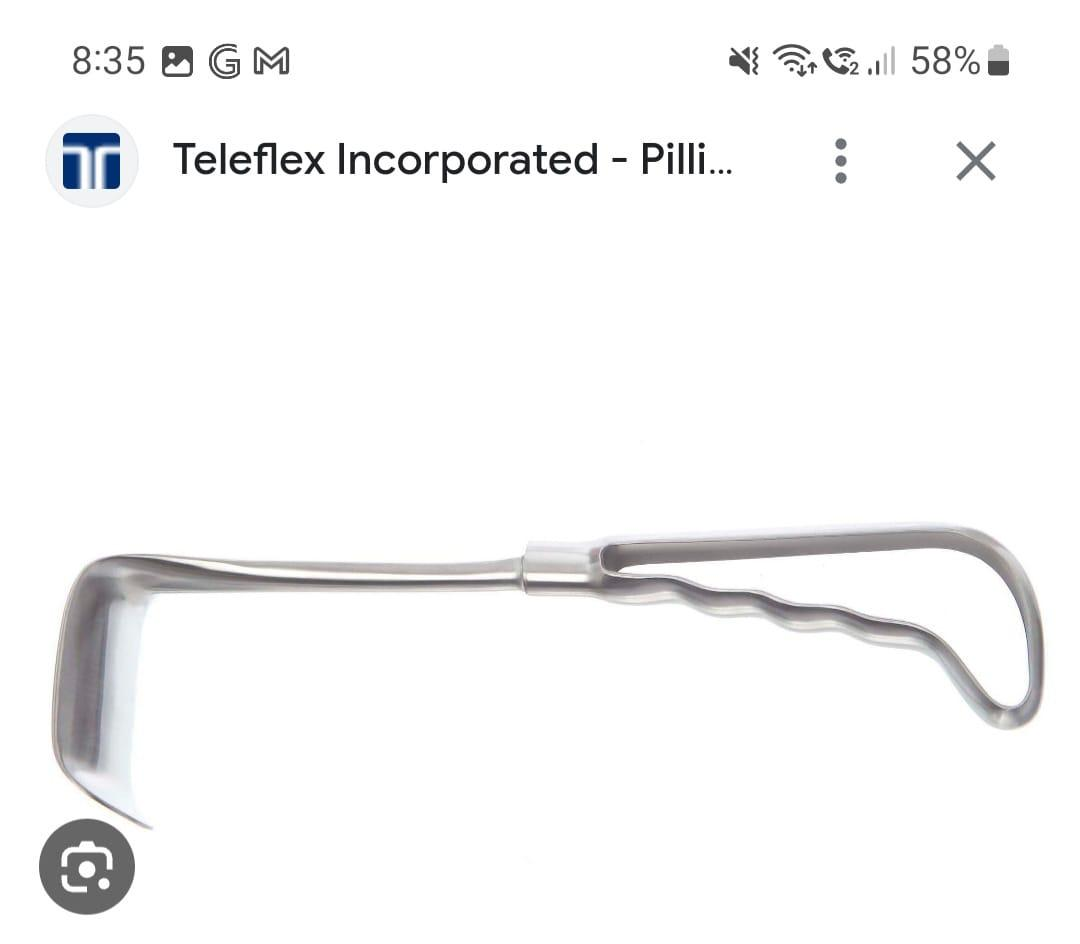Kelly Retractor: (41, 506, 1046, 830)
